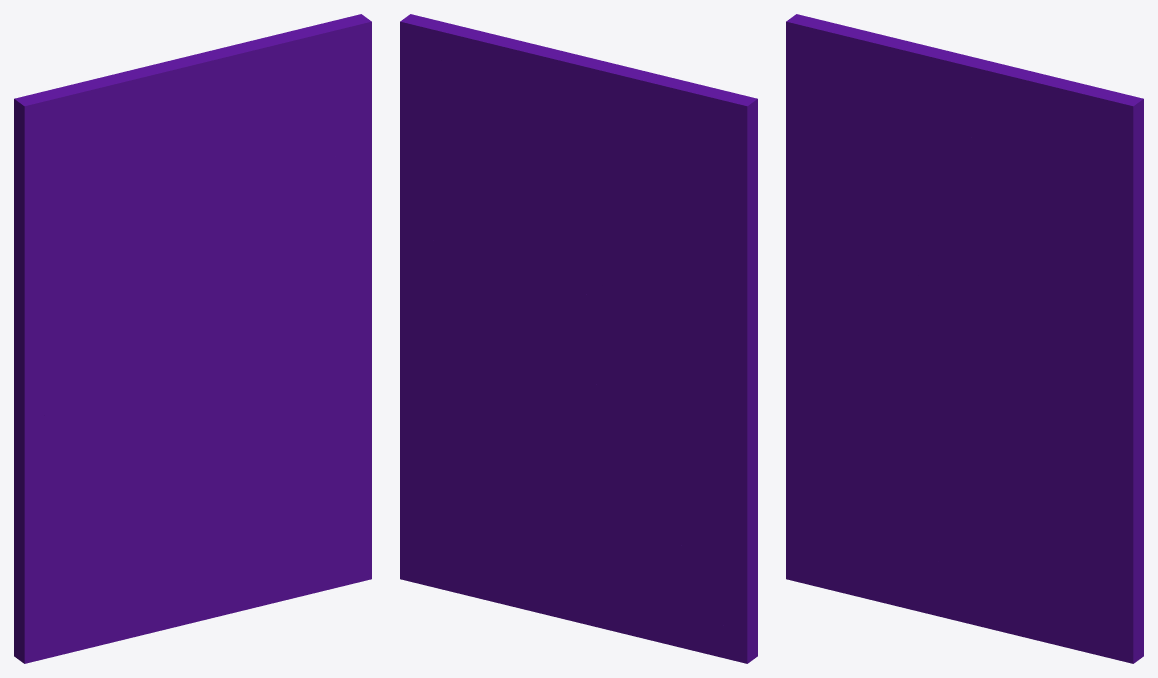
File: BigPainting.003_chunks.fbx
3 views of the same model, side by side, from view 1: azimuth 30°, elevation 25°; view 2: azimuth 150°, elevation 25°; view 3: azimuth 330°, elevation 25° (orthographic).
Visible parts, largest first — view 1: BigPainting.003_7, BigPainting.003_5, BigPainting.003_4, BigPainting.003_21, BigPainting.003_24, BigPainting.003_12, BigPainting.003_16, BigPainting.003_2, BigPainting.003_26, BigPainting.003_15, BigPainting.003_10, BigPainting.003_23 (+14 smaller); view 2: BigPainting.003_5, BigPainting.003_6, BigPainting.003_4, BigPainting.003_21, BigPainting.003_2, BigPainting.003_25, BigPainting.003_7, BigPainting.003_24, BigPainting.003_16, BigPainting.003_23, BigPainting.003_10, BigPainting.003_15 (+11 smaller); view 3: BigPainting.003_7, BigPainting.003_5, BigPainting.003_4, BigPainting.003_21, BigPainting.003_24, BigPainting.003_16, BigPainting.003_12, BigPainting.003_2, BigPainting.003_26, BigPainting.003_15, BigPainting.003_23, BigPainting.003_10 (+14 smaller).
Boxes of the visible parts, x1,y1,x2,y2 form: BigPainting.003_7: (190,15,371,224); BigPainting.003_5: (58,55,237,301); BigPainting.003_4: (175,218,371,340); BigPainting.003_21: (260,455,371,599); BigPainting.003_24: (30,467,171,662); BigPainting.003_12: (14,463,86,663); BigPainting.003_16: (14,88,98,240); BigPainting.003_2: (162,320,321,429); BigPainting.003_26: (161,499,285,608); BigPainting.003_15: (15,373,167,476); BigPainting.003_10: (91,159,155,352); BigPainting.003_23: (274,310,371,427); BigPainting.003_5: (532,58,716,302); BigPainting.003_6: (400,21,535,244); BigPainting.003_4: (400,228,592,339); BigPainting.003_21: (400,430,512,598); BigPainting.003_2: (435,313,634,458); BigPainting.003_25: (482,519,665,643); BigPainting.003_7: (401,14,591,171); BigPainting.003_24: (602,467,742,662); BigPainting.003_16: (684,89,757,245); BigPainting.003_23: (400,306,499,442); BigPainting.003_10: (628,131,691,348); BigPainting.003_15: (608,382,757,476); BigPainting.003_7: (951,58,1142,259); BigPainting.003_5: (827,25,998,290); BigPainting.003_4: (936,244,1143,395); BigPainting.003_21: (1022,507,1143,663); BigPainting.003_24: (792,436,933,602); BigPainting.003_16: (786,14,859,177); BigPainting.003_12: (786,378,847,580); BigPainting.003_2: (924,351,1083,452); BigPainting.003_26: (923,507,1047,642); BigPainting.003_15: (786,320,928,420); BigPainting.003_23: (1035,381,1143,492); BigPainting.003_10: (853,110,917,304).
Bounding box in the file's own units: 705 × 1081 × 36.56.
